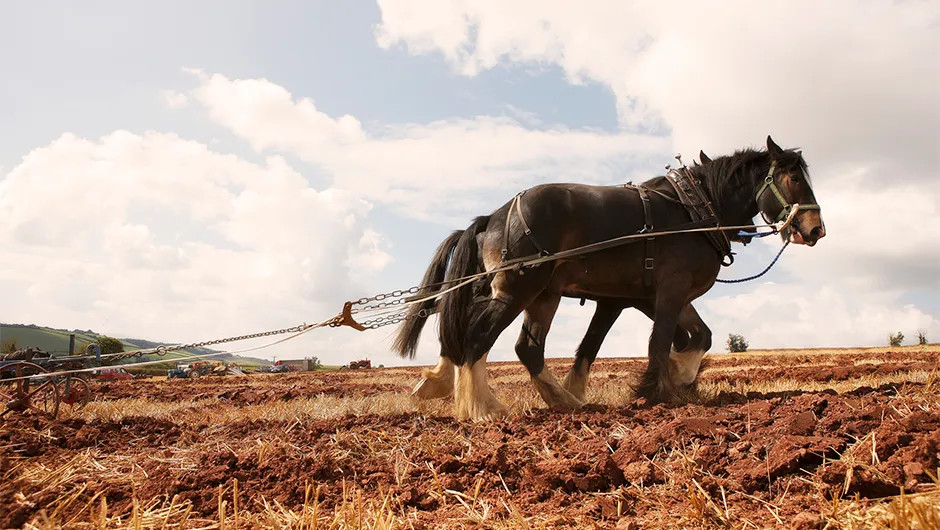horse: (390, 136, 829, 414)
